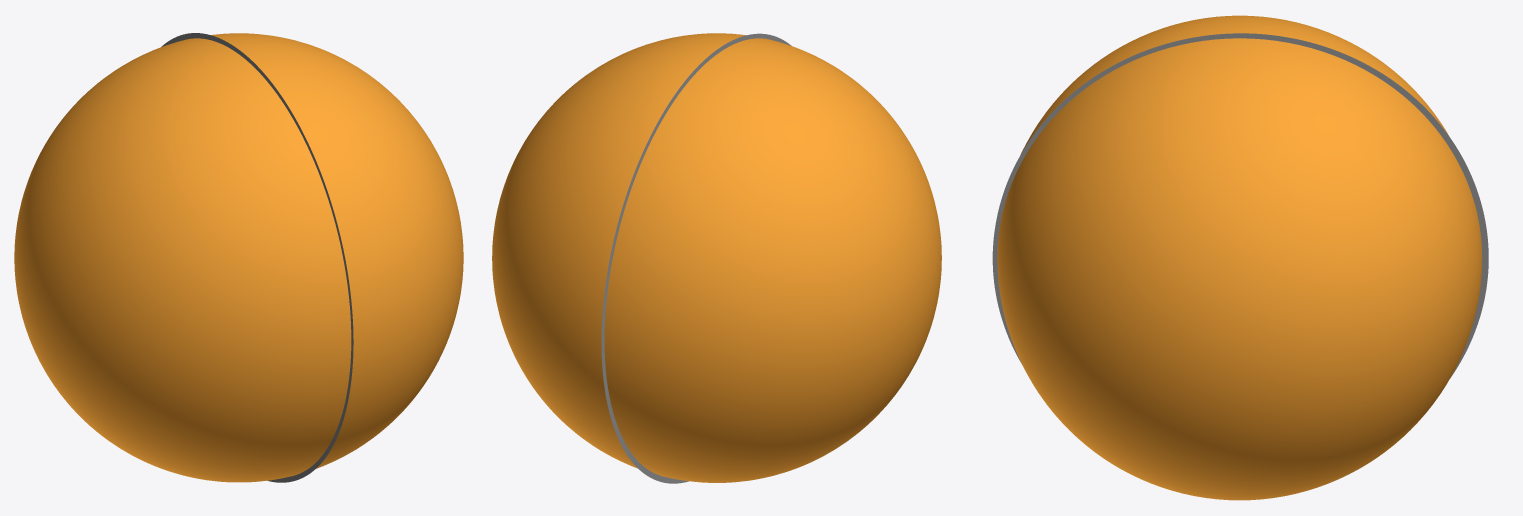
Rendered from Mercury.fbx.
3 views of the same model, side by side, from view 1: azimuth 30°, elevation 25°; view 2: azimuth 150°, elevation 25°; view 3: azimuth 270°, elevation 25° (orthographic). The views are drawn at different scales.
Parts seen in each view (by area): view 1: Mercury, MercuryGlow; view 2: Mercury, MercuryGlow; view 3: Mercury, MercuryGlow.
Part boxes in pixels (box(x1,y1,x2,y2)): Mercury: box(14, 33, 463, 482); MercuryGlow: box(161, 33, 353, 482); Mercury: box(492, 33, 941, 482); MercuryGlow: box(601, 33, 791, 483); Mercury: box(997, 15, 1482, 500); MercuryGlow: box(992, 33, 1488, 378).
Bounding box in the file's own units: 0.2484 × 0.2759 × 0.2759.
